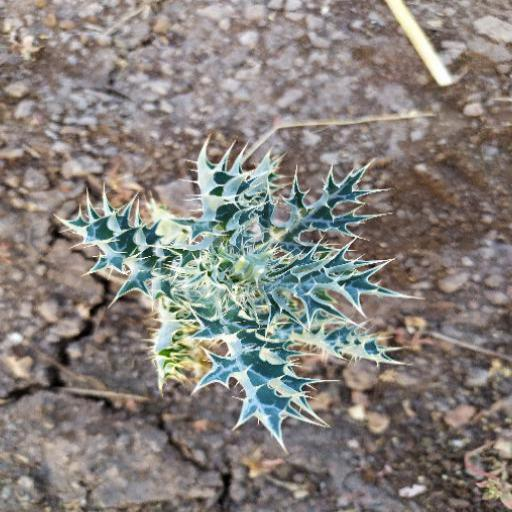weed: (51, 131, 410, 449)
